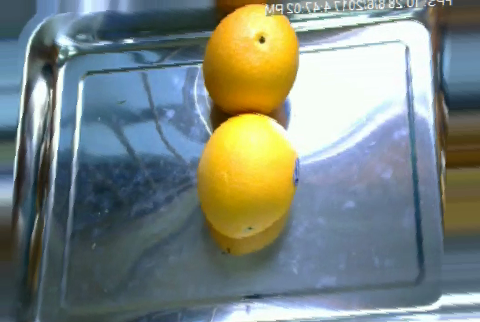Orange: (196, 112, 301, 238), (202, 3, 299, 116)
